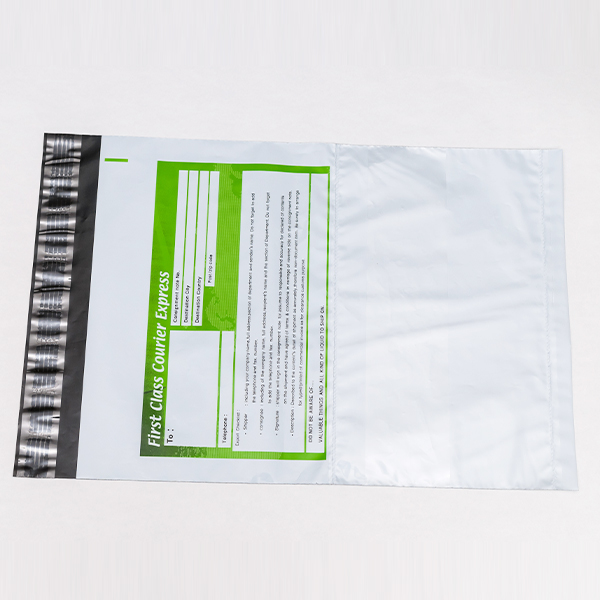塑料袋: (15, 134, 576, 488)
